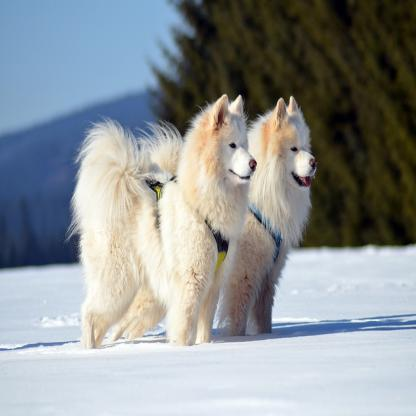dog: (68, 94, 256, 349), (142, 97, 320, 336)
